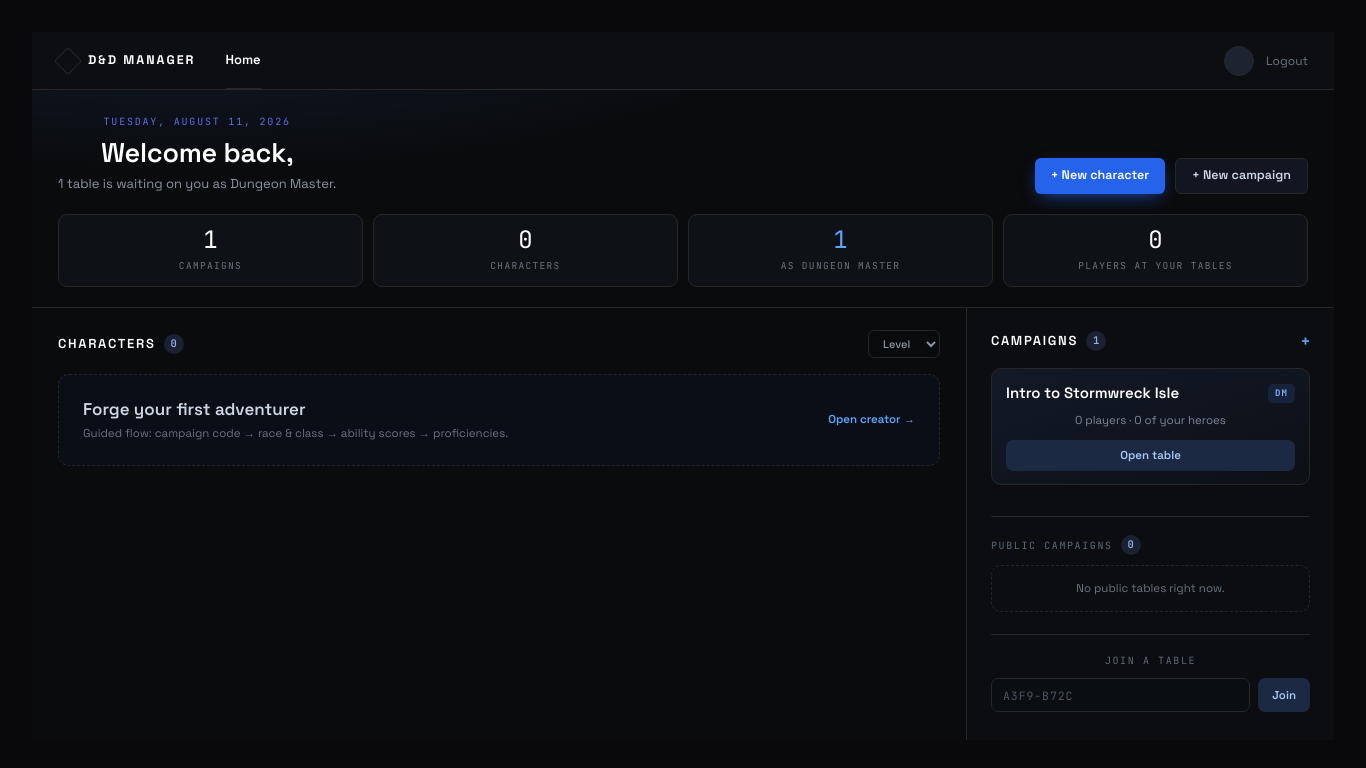
App view campaign flow › shows an error state when fetching campaign details fails
Click the button "Intro to Stormwreck Isle": coordinates (1093, 394) [1006,382,1179,405]
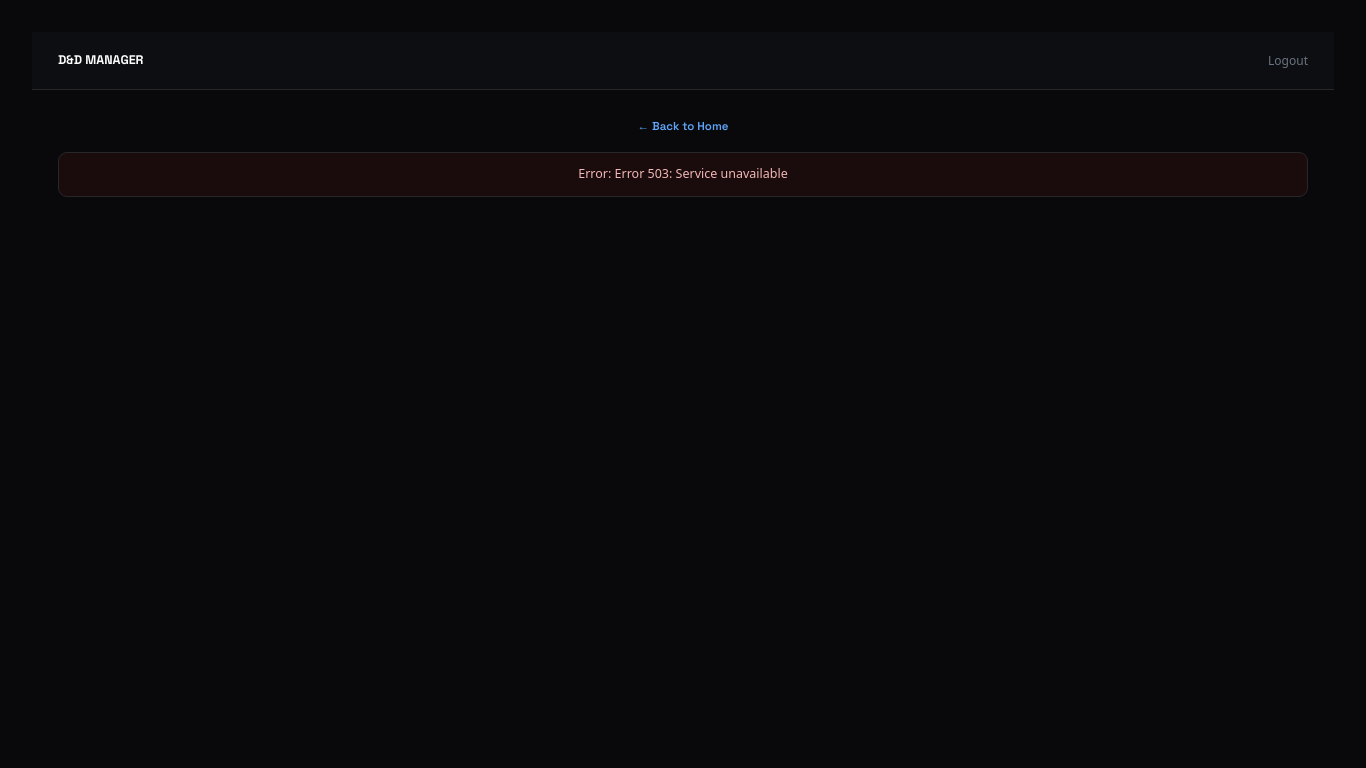
expect the text "Error: Error 503: Service unavailable" is shown: met, box [58,152,1308,197]
